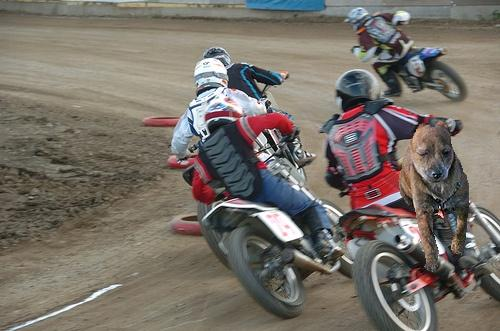tampered: (399, 122, 469, 272)
